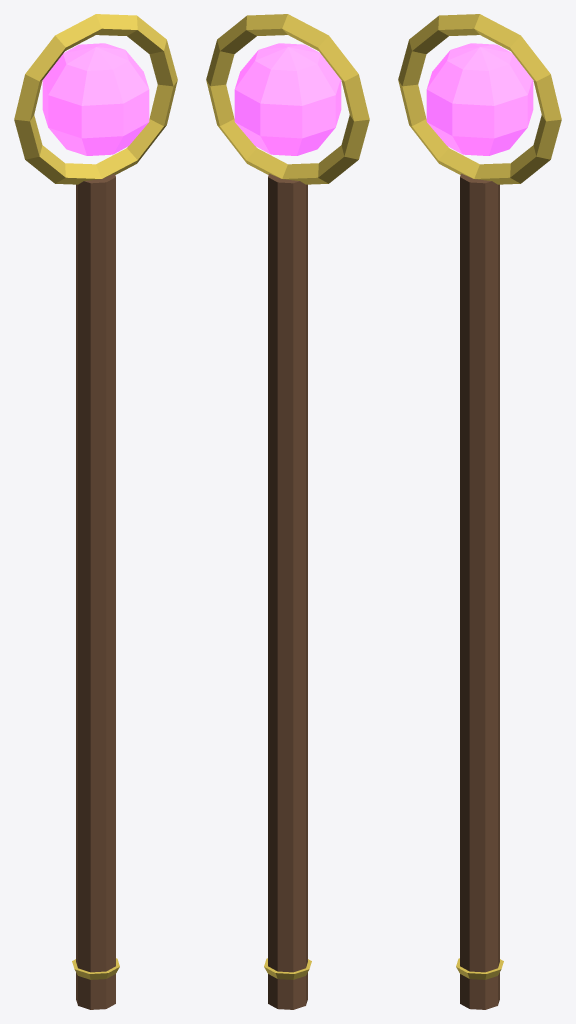
File: artifact_staff.glb
The picture shows the model from 3 angles, left to right: view 1: azimuth 30°, elevation 25°; view 2: azimuth 150°, elevation 25°; view 3: azimuth 330°, elevation 25°; orthographic projection.
Visible parts, largest first — view 1: artifact_staff; view 2: artifact_staff; view 3: artifact_staff.
Boxes of the visible parts, x1=… form: artifact_staff: x1=14, y1=14, x2=177, y2=1009; artifact_staff: x1=206, y1=14, x2=369, y2=1009; artifact_staff: x1=398, y1=14, x2=561, y2=1009.
Size of the model in its own units: 0.114 by 0.662 by 0.0666.
